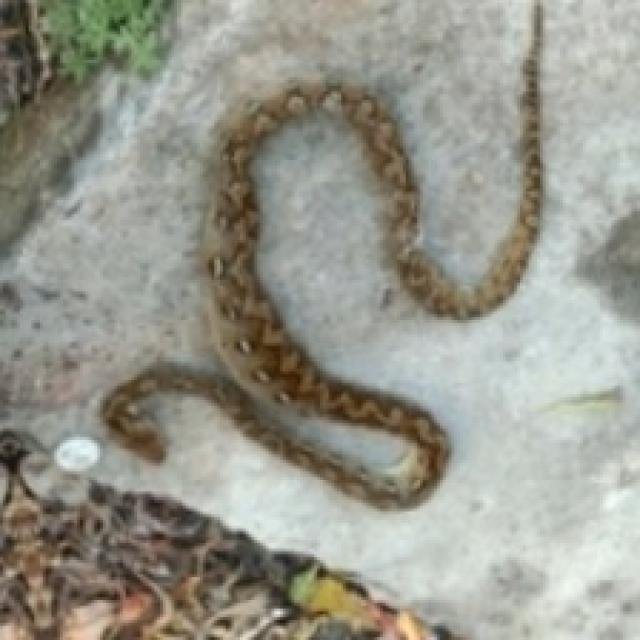reticulated python: (103, 0, 540, 506)
